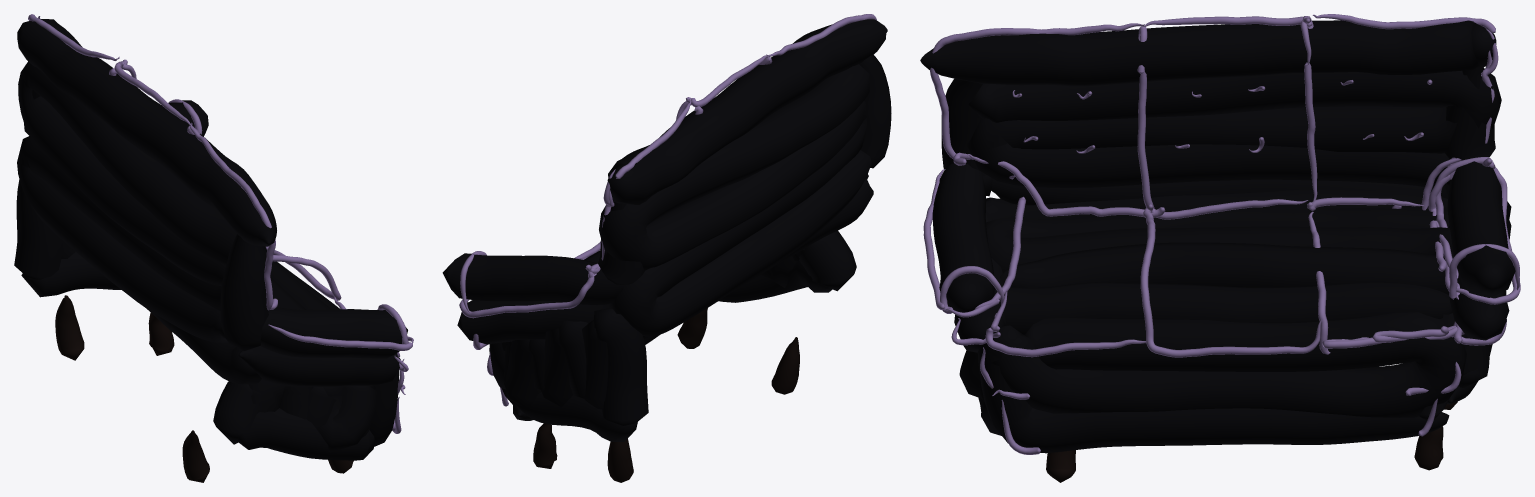
3 renders of one model, left to right at view 1: azimuth 30°, elevation 25°; view 2: azimuth 150°, elevation 25°; view 3: azimuth 270°, elevation 25°, orthographic. The views are drawn at different scales.
Parts seen in each view (by area): view 1: Untitled_16_0_Wire_geo; view 2: Untitled_16_0_Wire_geo; view 3: Untitled_16_0_Wire_geo.
Boxes of the visible parts, x1,y1,x2,y2 form: Untitled_16_0_Wire_geo: [14, 14, 413, 482]; Untitled_16_0_Wire_geo: [442, 14, 891, 482]; Untitled_16_0_Wire_geo: [920, 14, 1520, 482].
Bounding box in the file's own units: 0.9426 × 1.46 × 1.96.
